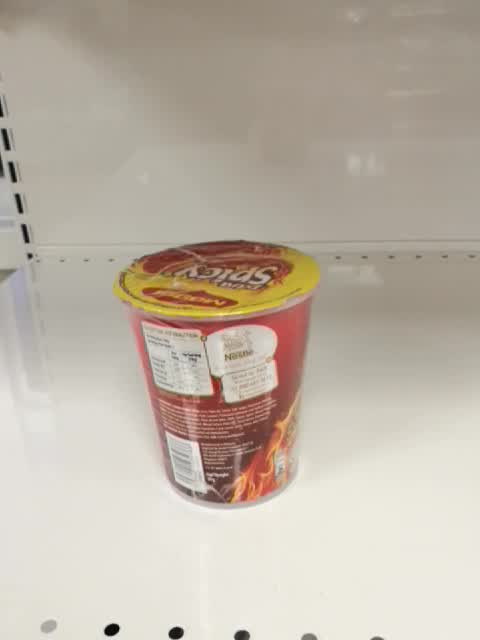maggi: (112, 240, 325, 510)
